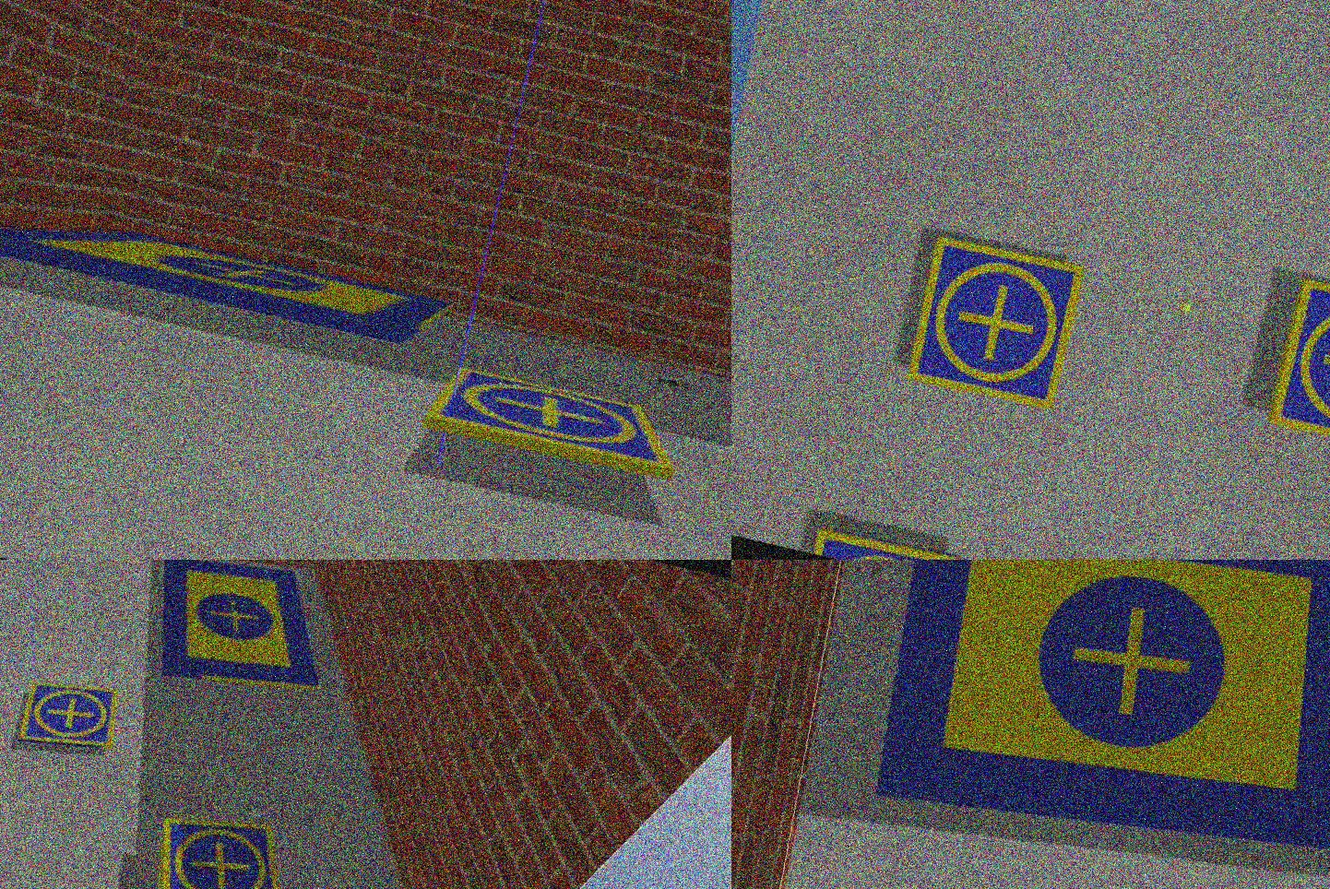large_base: (854, 561, 1330, 889), (1, 186, 456, 358), (147, 561, 343, 705)
small_base: (906, 231, 1086, 415), (423, 360, 687, 484), (141, 801, 306, 889), (1265, 275, 1330, 462), (14, 670, 128, 765), (809, 520, 968, 561)
